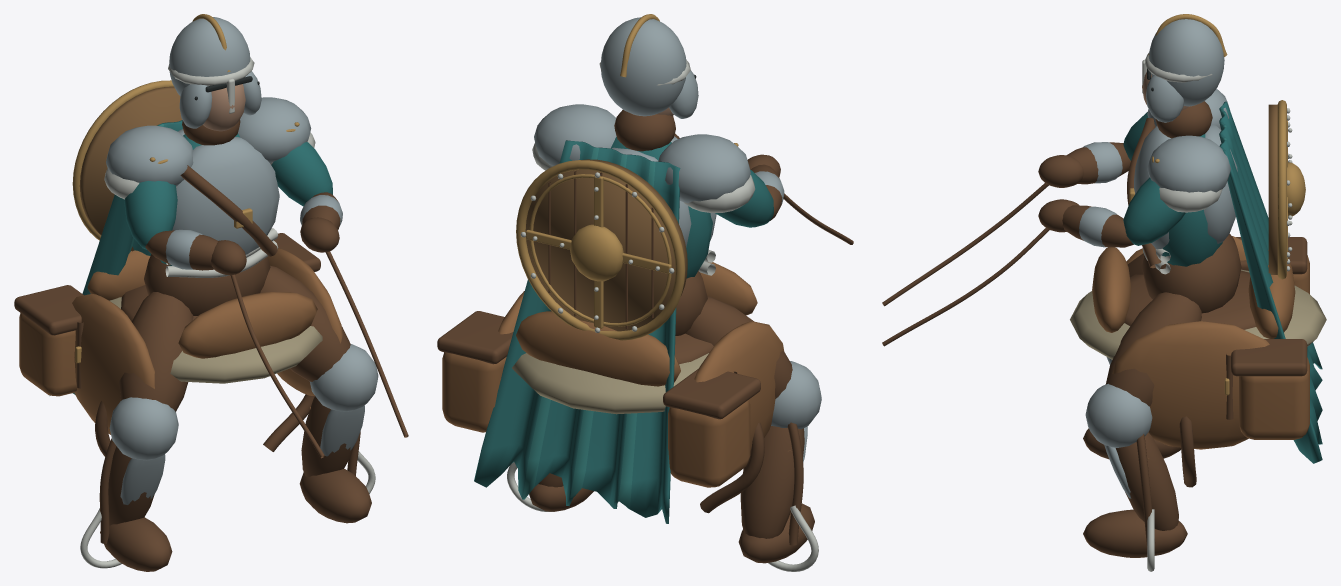
The model's file is rider.glb.
3 renders of one model, left to right at view 1: azimuth 30°, elevation 25°; view 2: azimuth 150°, elevation 25°; view 3: azimuth 270°, elevation 25°, orthographic. The views are drawn at different scales.
Parts seen in each view (by area): view 1: Amber Pass mounted warden and tack; view 2: Amber Pass mounted warden and tack; view 3: Amber Pass mounted warden and tack.
Boxes of the visible parts, <box> form: Amber Pass mounted warden and tack: <box>14,14,408,571</box>; Amber Pass mounted warden and tack: <box>437,14,853,571</box>; Amber Pass mounted warden and tack: <box>882,14,1326,571</box>.
Bounding box in the file's own units: 1.27 × 2.1 × 1.7.
